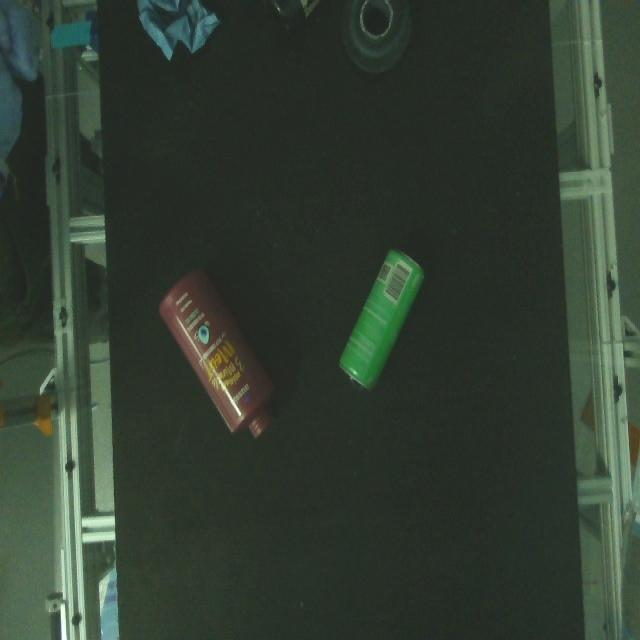non-paper: (156, 264, 280, 442), (335, 244, 426, 398), (338, 0, 419, 81), (256, 0, 334, 43)
paper: (130, 0, 225, 67)
